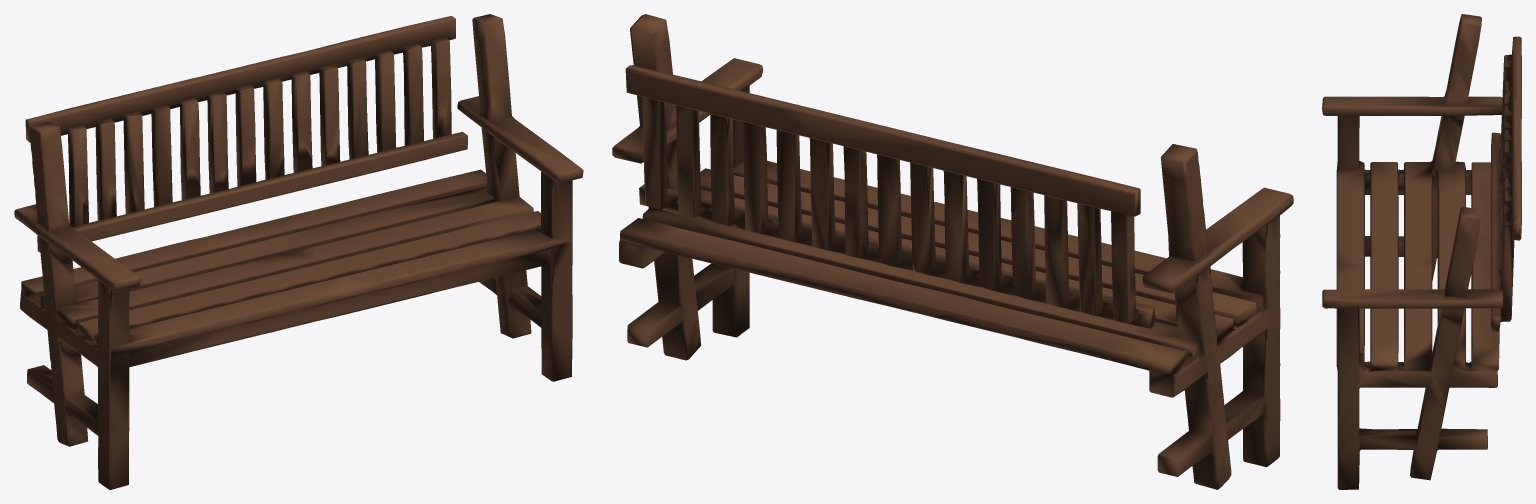
File: tee_bench.glb
3 views of the same model, side by side, from view 1: azimuth 30°, elevation 25°; view 2: azimuth 150°, elevation 25°; view 3: azimuth 270°, elevation 25° (orthographic). The views are drawn at different scales.
Visible parts, largest first — view 1: tee_bench; view 2: tee_bench; view 3: tee_bench.
Part boxes in pixels (x1,y1,x2,y2): tee_bench: (14, 14, 583, 489); tee_bench: (612, 14, 1293, 489); tee_bench: (1322, 14, 1521, 489).
Bounding box in the file's own units: 1.54 × 0.9667 × 0.6351.
